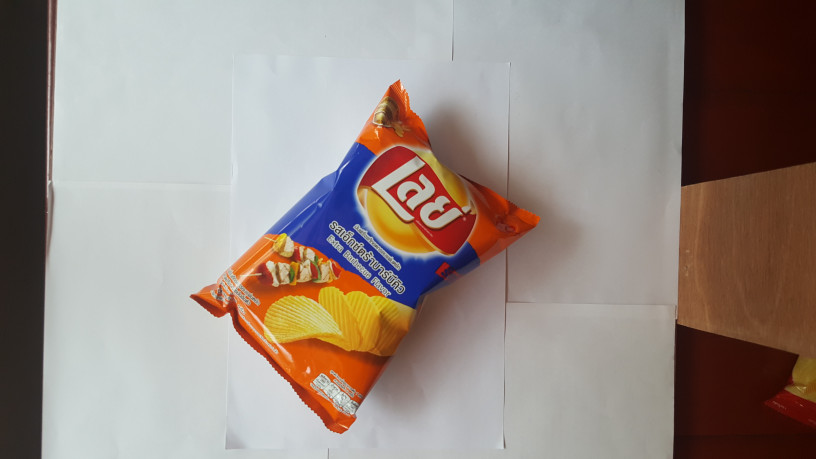lays-bbq: (186, 72, 545, 436)
